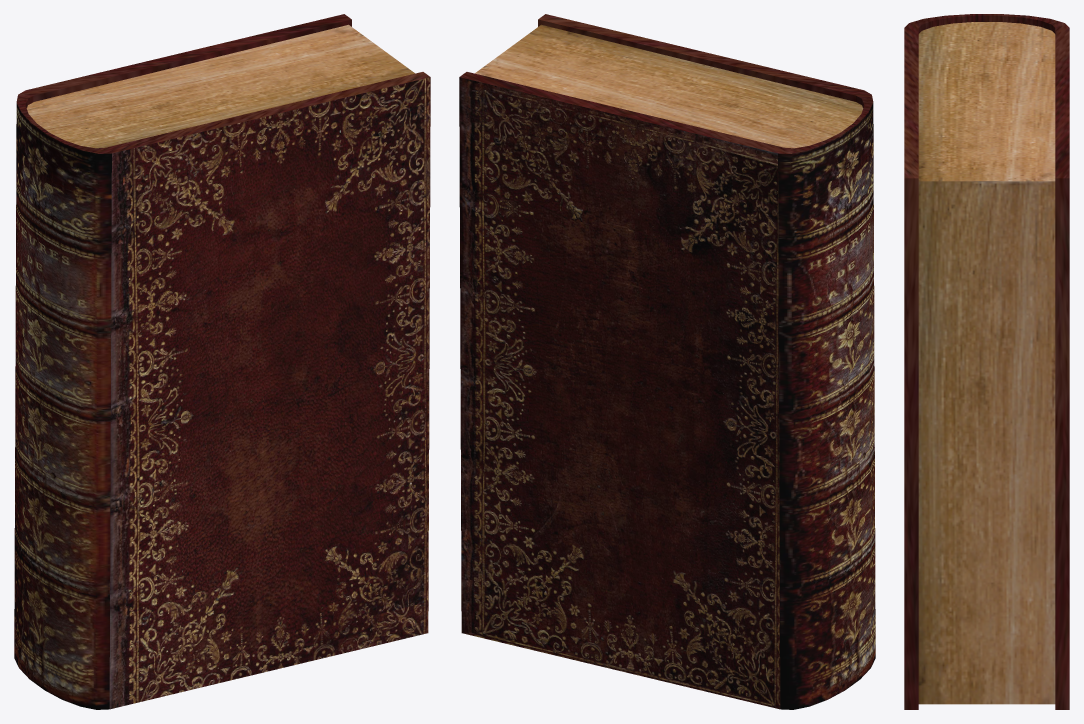
File: SM_Book01.fbx
3 renders of one model, left to right at view 1: azimuth 30°, elevation 25°; view 2: azimuth 150°, elevation 25°; view 3: azimuth 270°, elevation 25°, orthographic. The views are drawn at different scales.
Visible parts, largest first — view 1: SM_Book_HP.009; view 2: SM_Book_HP.009; view 3: SM_Book_HP.009.
Boxes of the visible parts, x1,y1,x2,y2 form: SM_Book_HP.009: (14,14,430,709); SM_Book_HP.009: (459,14,875,709); SM_Book_HP.009: (904,14,1069,709).
Size of the model in its own units: 17.25 by 26.21 by 7.36.
2 materials, 2 textured.
